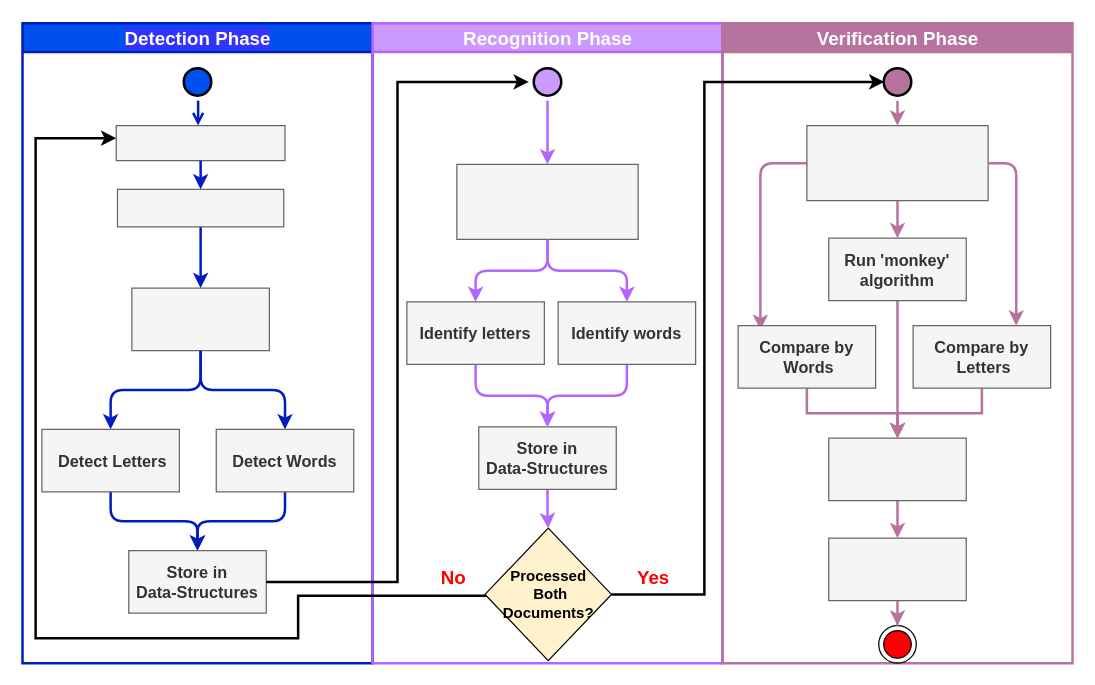
This 1095x685 diagram has some shape labels left out. Each missing label, with the centre of its shape:
"Analyze results" goes at pixel 897 469.
"Detect Lines" goes at pixel 200 319.
"Load & compile trained recognition models" goes at pixel 547 201.
"Load & compile trained verification models" goes at pixel 897 162.
"Load document" goes at pixel 200 142.
"Preprocess document" goes at pixel 200 207.
"Return score" goes at pixel 897 569.
